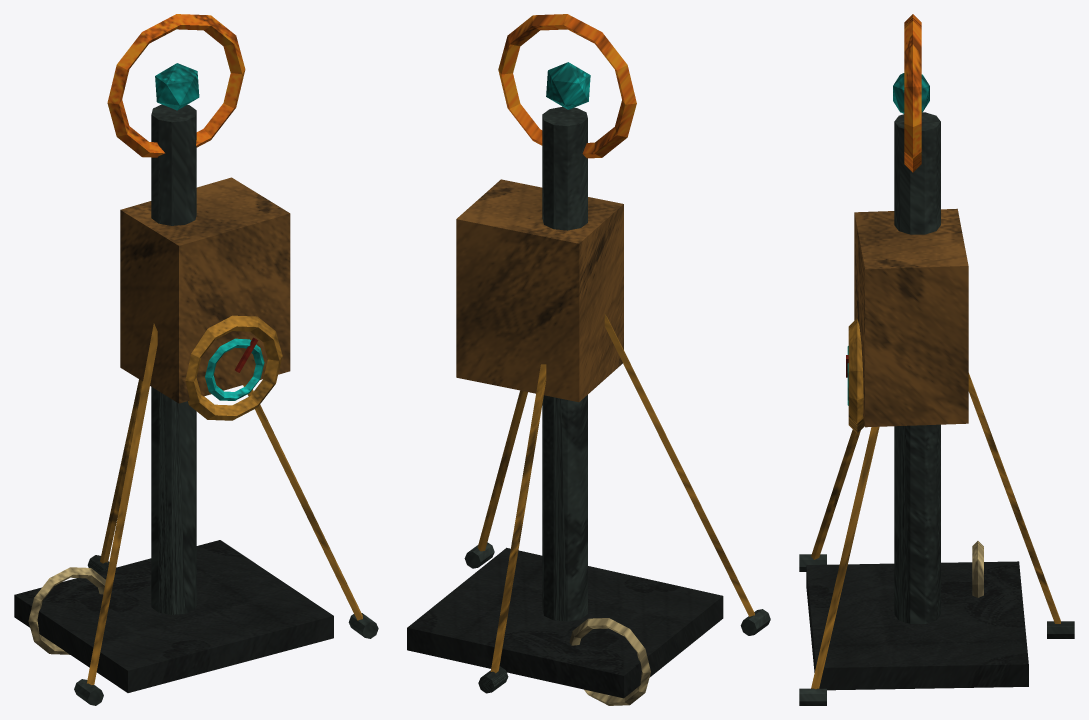
Rendered from east-hollow-warning-pylon.glb.
The picture shows the model from 3 angles, left to right: view 1: azimuth 30°, elevation 25°; view 2: azimuth 150°, elevation 25°; view 3: azimuth 270°, elevation 25°; orthographic projection.
Visible parts, largest first — view 1: east-hollow-warning-pylon; view 2: east-hollow-warning-pylon; view 3: east-hollow-warning-pylon.
Boxes of the visible parts, box(x1,y1,x2,y2) form: east-hollow-warning-pylon: box(14, 14, 378, 705); east-hollow-warning-pylon: box(407, 14, 770, 705); east-hollow-warning-pylon: box(799, 14, 1074, 705).
Bounding box in the file's own units: 4.34 × 9.23 × 3.56.
Materials: 1 (1 with a texture image).
